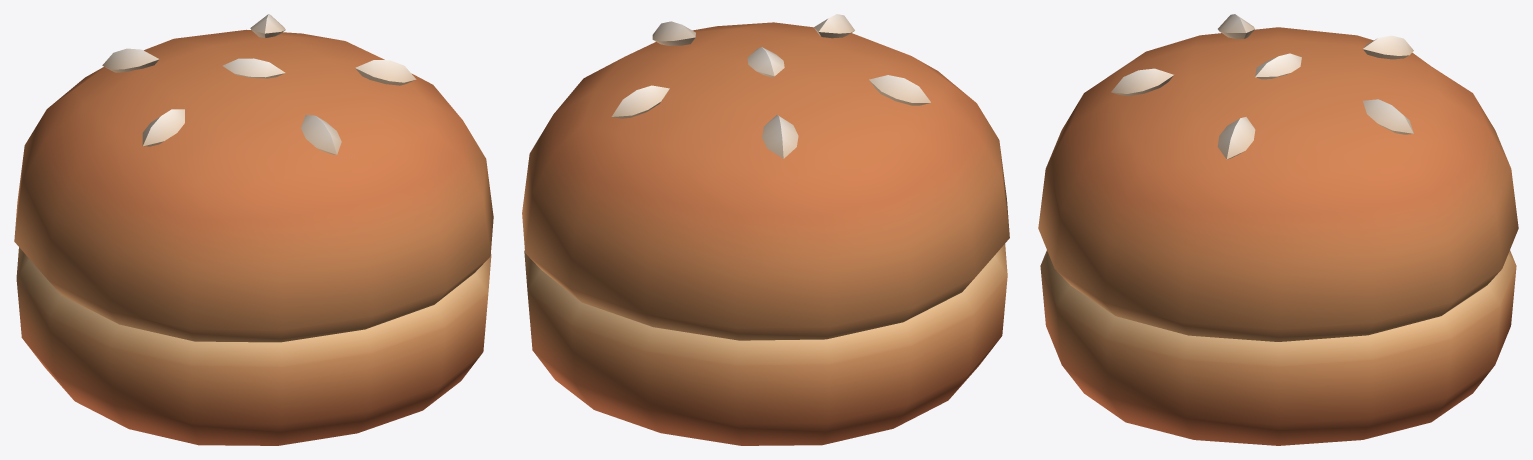
Rendered from bun.glb.
3 renders of one model, left to right at view 1: azimuth 30°, elevation 25°; view 2: azimuth 150°, elevation 25°; view 3: azimuth 270°, elevation 25°, orthographic.
Visible parts, largest first — view 1: food_ingredient_bun; view 2: food_ingredient_bun; view 3: food_ingredient_bun.
Part boxes in pixels (box(x1,y1,x2,y2)): food_ingredient_bun: box(14, 14, 493, 445); food_ingredient_bun: box(522, 14, 1009, 445); food_ingredient_bun: box(1038, 14, 1518, 445).
Bounding box in the file's own units: 0.7 × 0.5072 × 0.7.
1 material, 1 textured.
